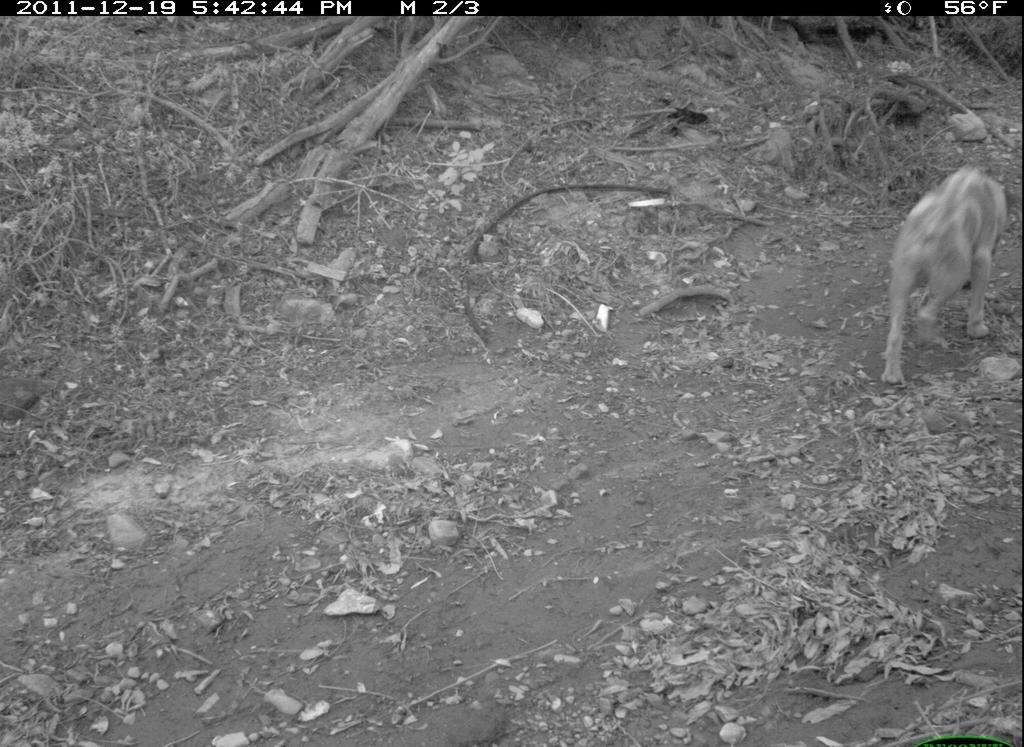dog: (861, 155, 1023, 410)
